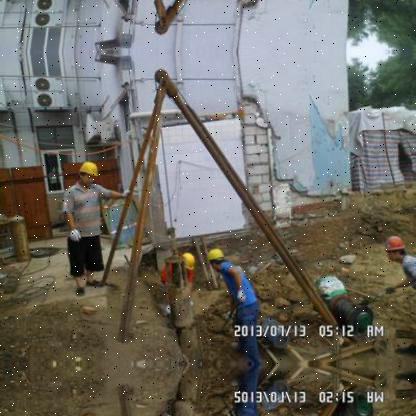Helmet: (74, 158, 108, 190), (204, 244, 232, 271), (176, 249, 202, 278), (386, 238, 410, 269)
